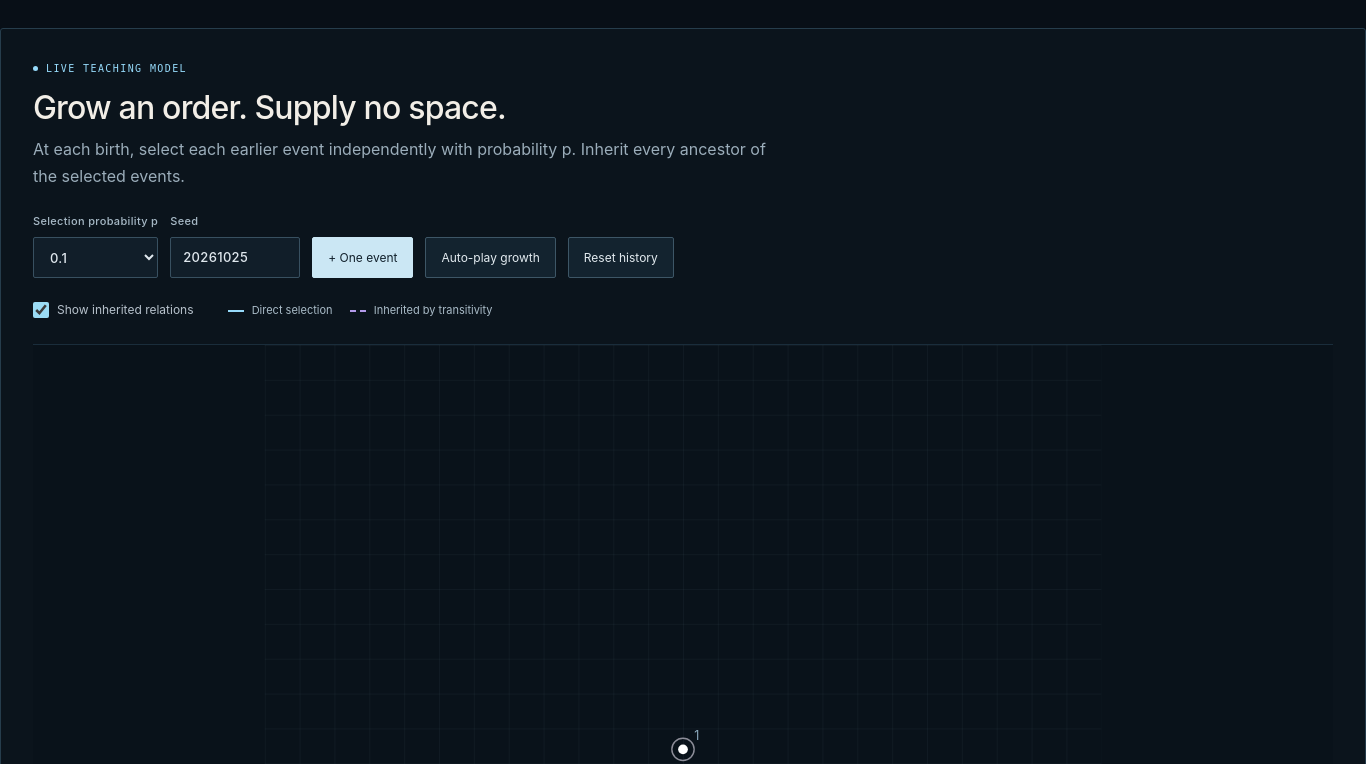
replay, keyboard access, motion preferences, and teaching state › stops autoplay when reduced-motion preference becomes active
This screenshot has width=1366, height=764.
Click the button "Auto-play growth" at [491, 258], box x1=426 y1=237 x2=556 y2=278
Wait 2100 ms
(page scrolled)
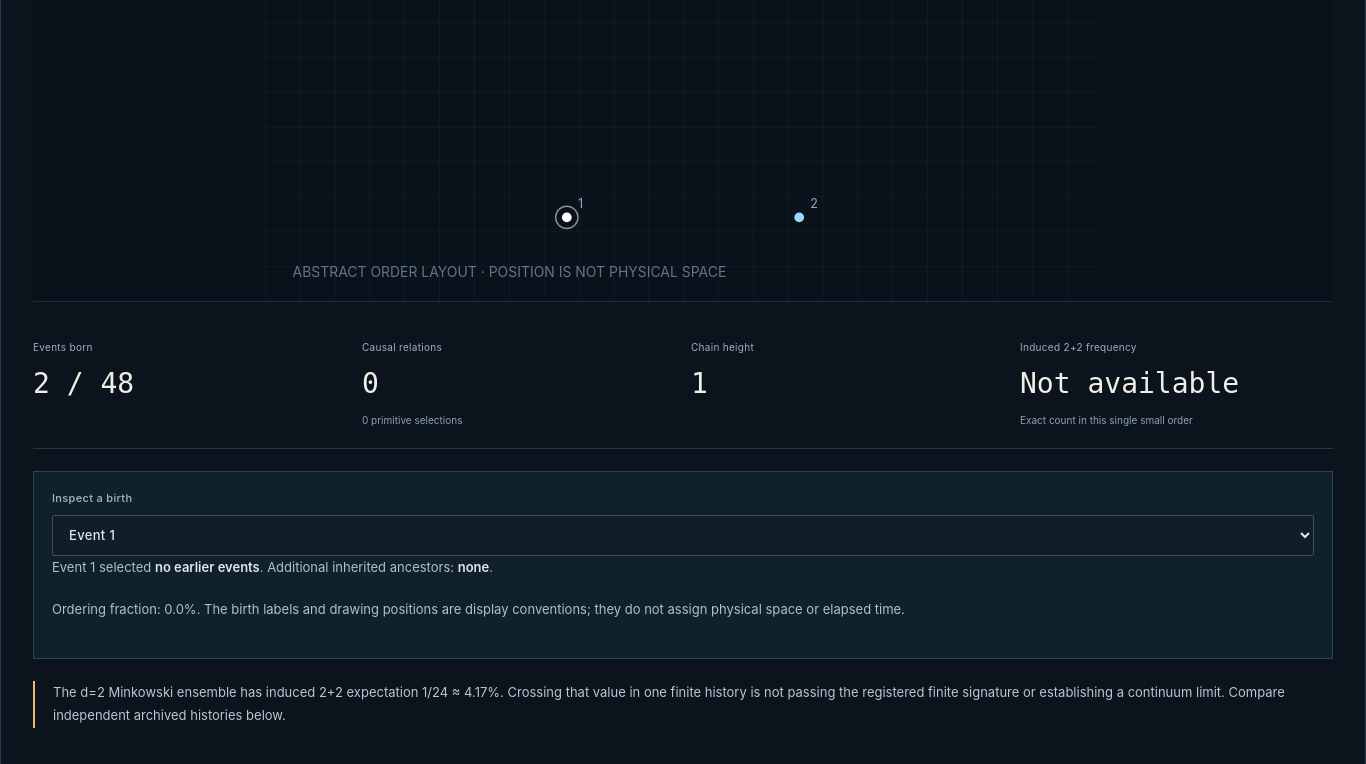
Expected: the text "2 / 48" is shown, x1=33 y1=367 x2=134 y2=400
